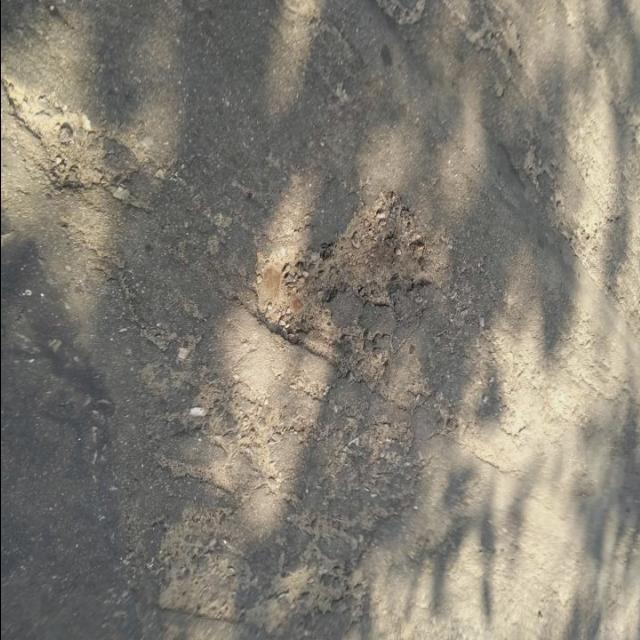pothole: (235, 168, 436, 389), (157, 536, 381, 633), (22, 80, 122, 216), (463, 17, 527, 77)
